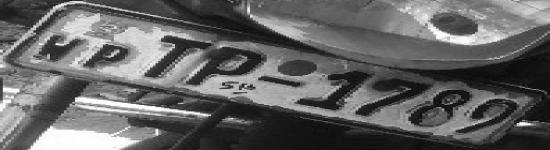-: (255, 73, 307, 89)
1: (279, 64, 392, 119)
7: (341, 74, 442, 127)
8: (387, 82, 489, 135)
9: (439, 93, 533, 141)
P: (168, 42, 284, 94), (83, 42, 132, 70)
T: (111, 28, 222, 89)
W: (32, 31, 84, 62)
